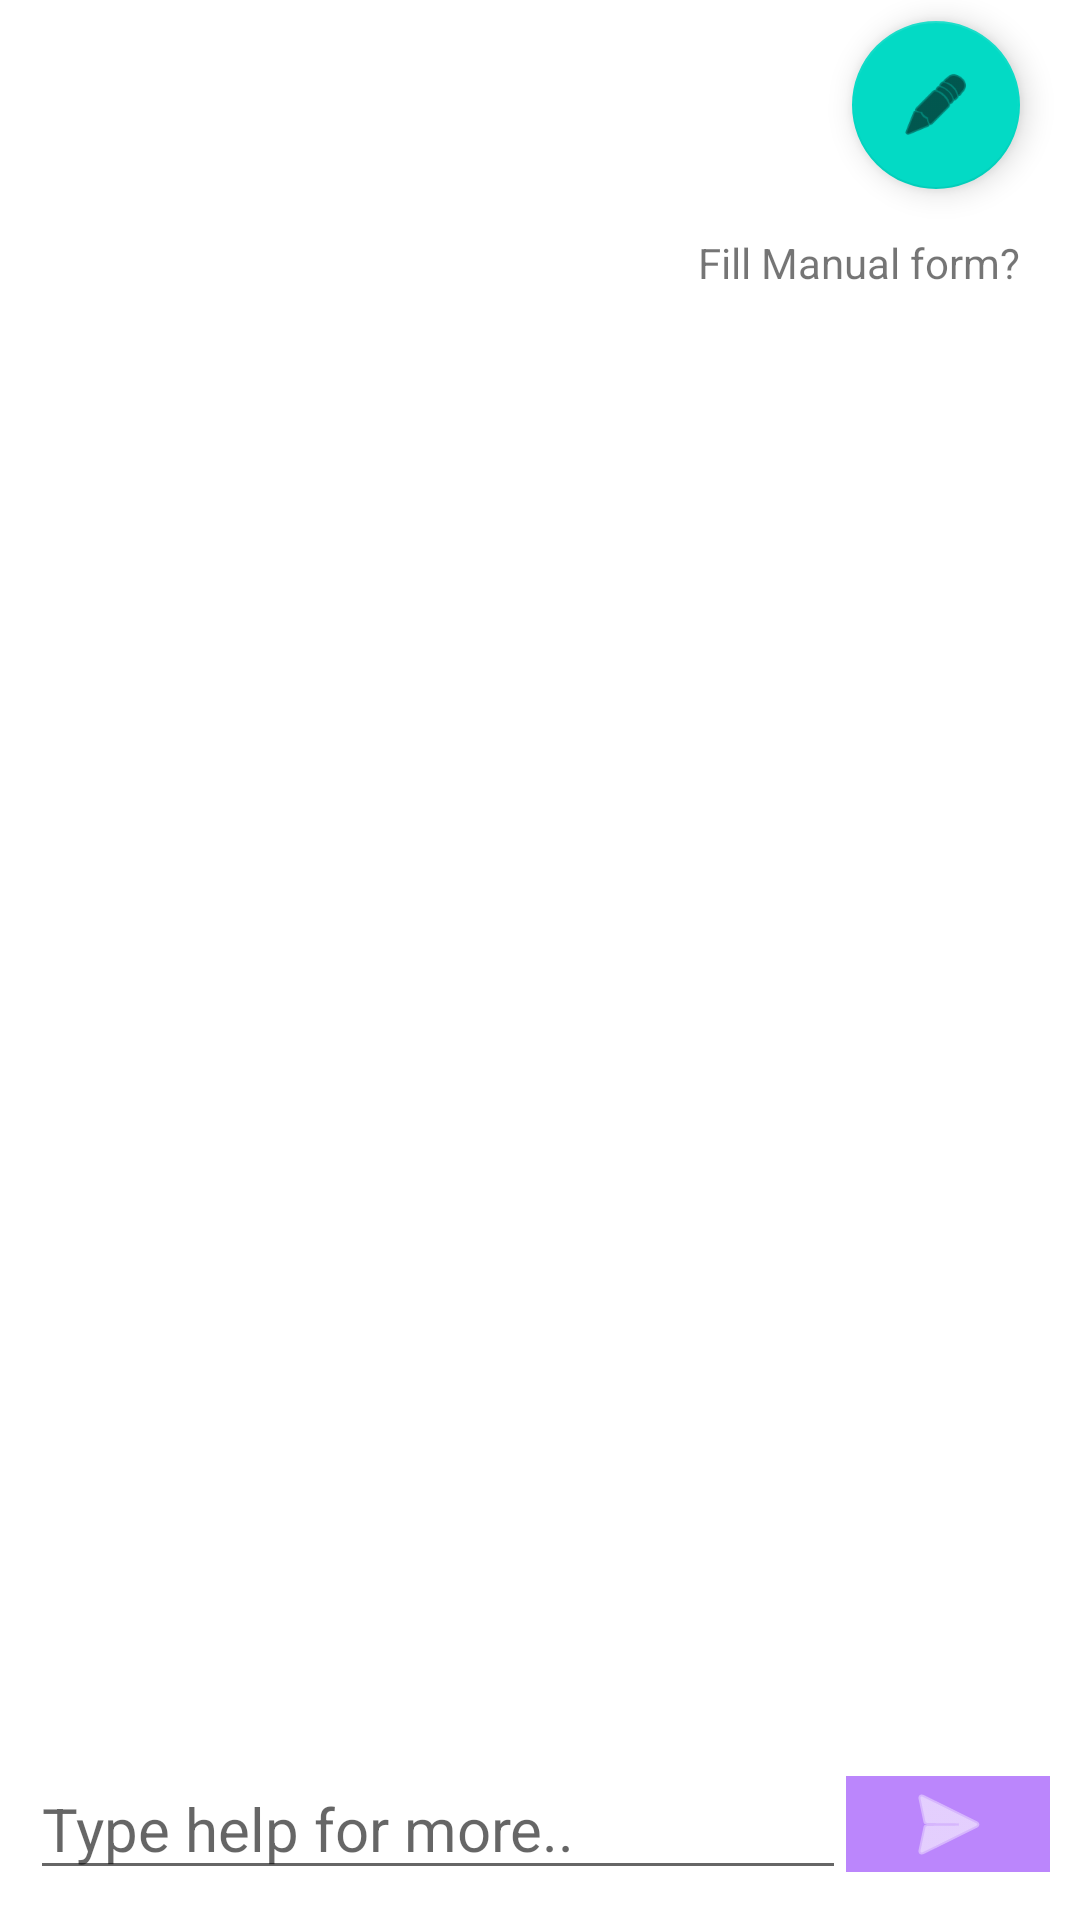

Where icons sit on this 1080 × 1920 app screen, as (x1, y1, x2, y2):
edit: (852, 21, 1020, 189)
send: (846, 1776, 1050, 1872)
